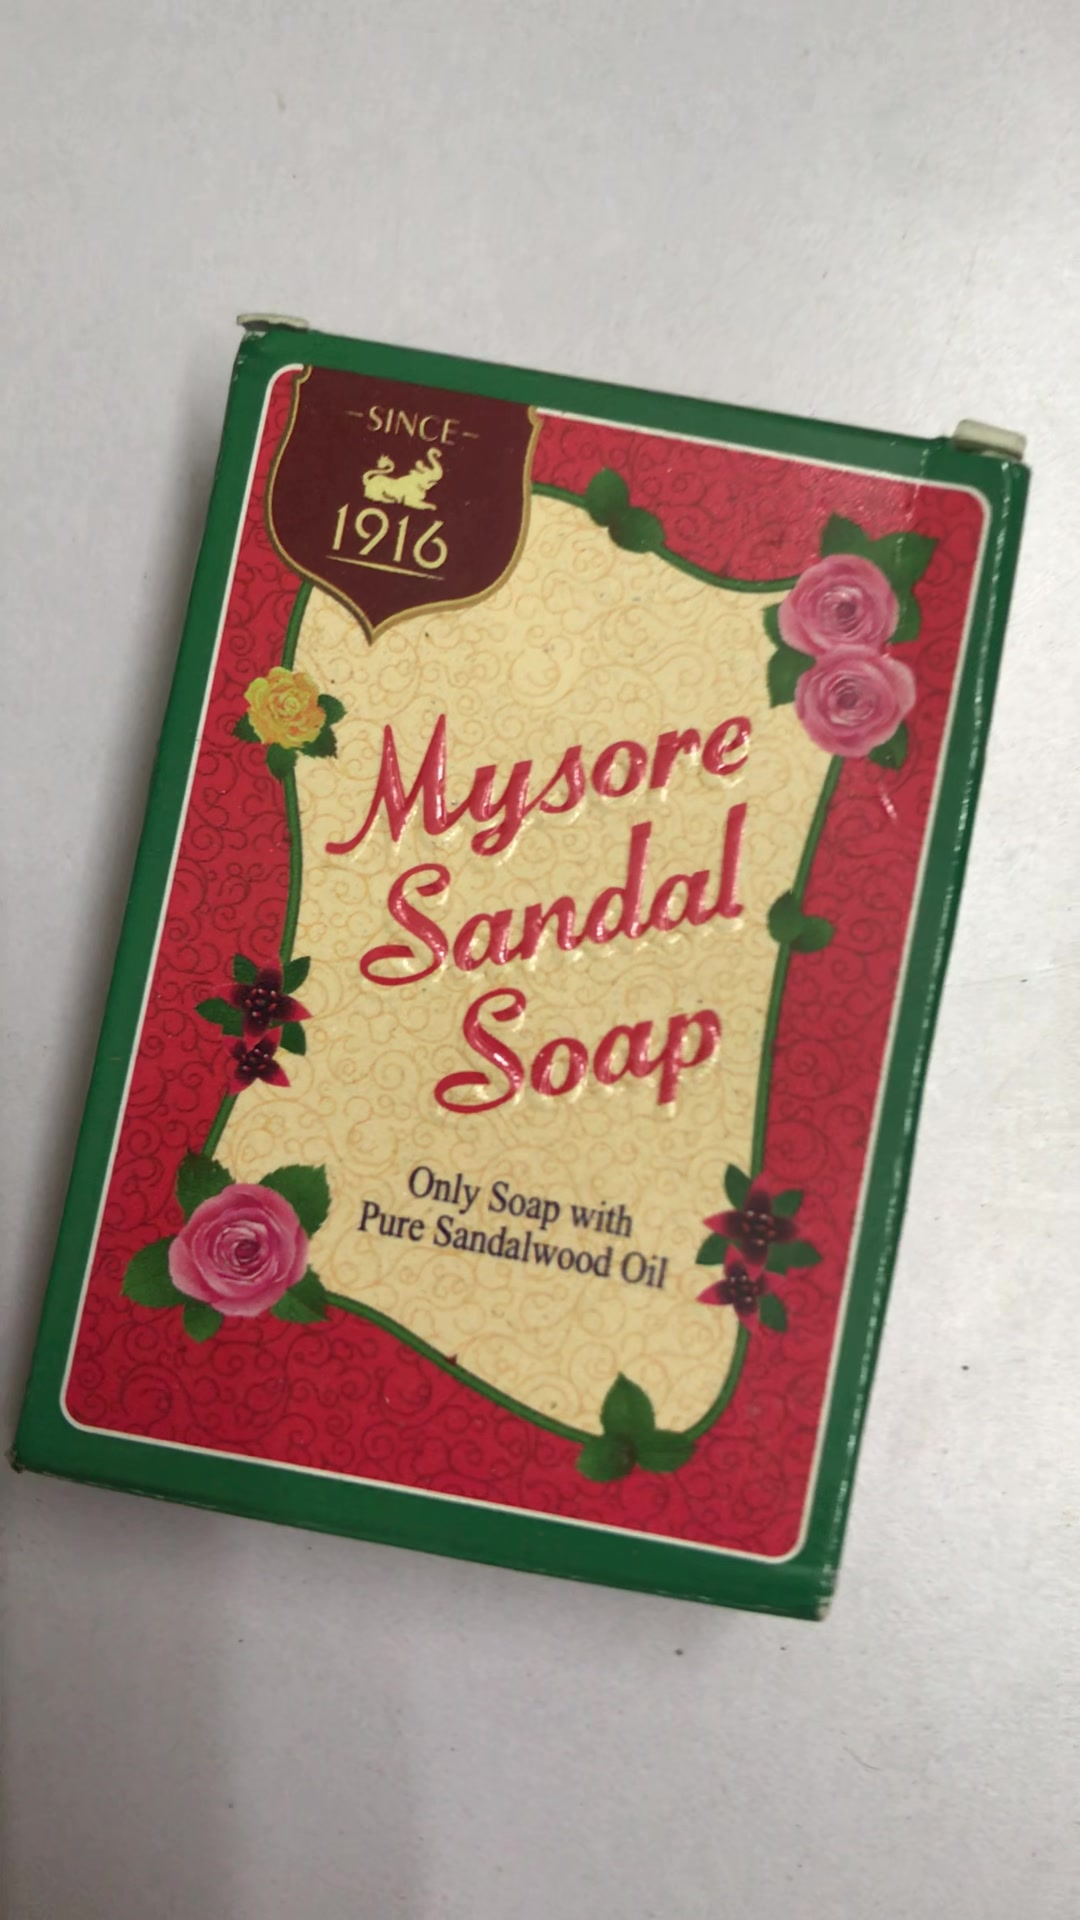mysore sandal soap: (9, 319, 1025, 1619)
